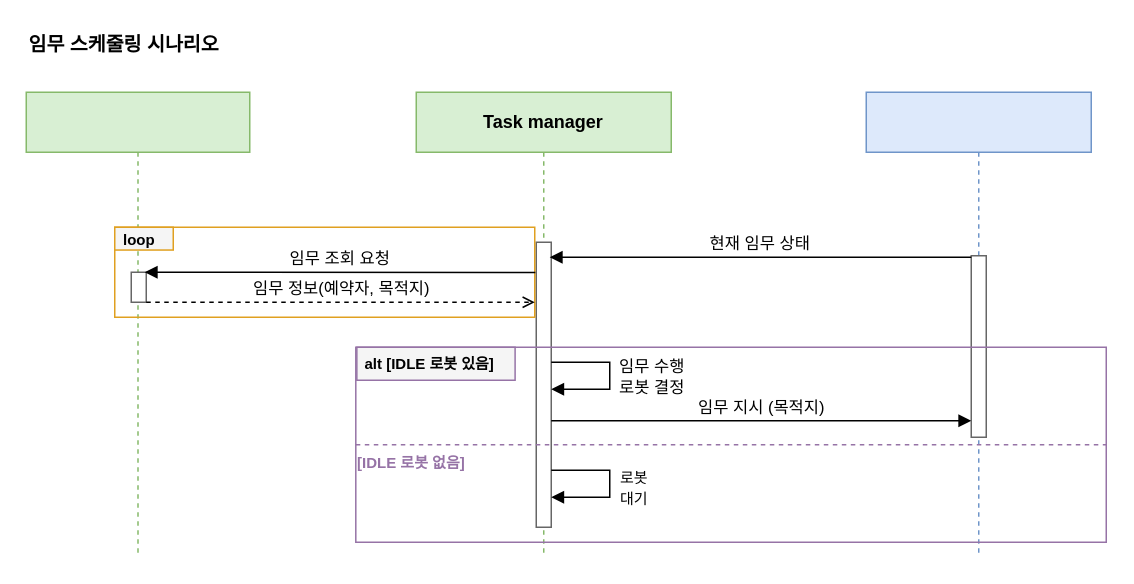
Some shapes in this 1134 by 584 pixel diagram are drawn without their labels. The shapes that lost their labels are listed below. From the top down, each one's box as (x1, y1, x2, y2) in pixels, then its label:
(25, 91, 250, 557): DB Manager
(865, 91, 1091, 557): Robot System
